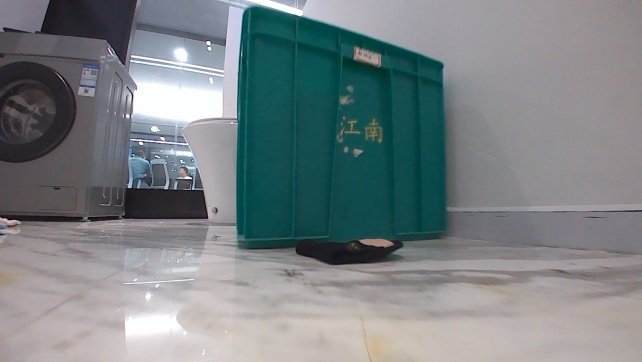socks: (292, 234, 405, 269)
toilet: (180, 115, 240, 224)
washing_machine: (0, 29, 139, 224)
